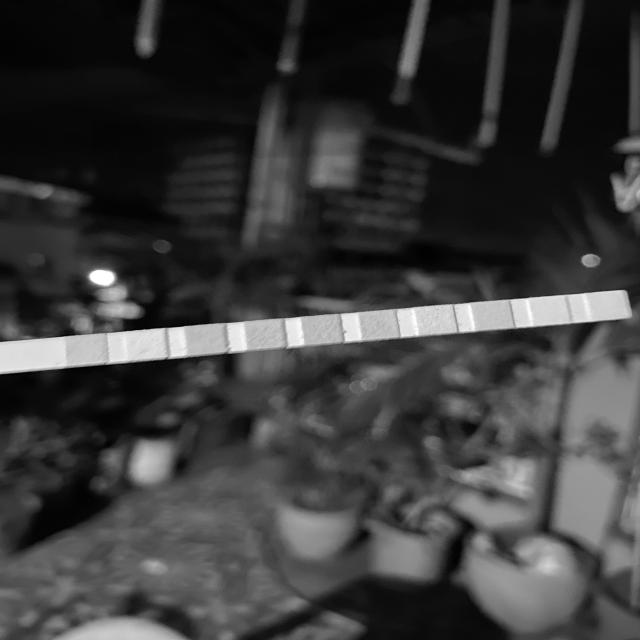Bilirubin: (129, 330, 165, 359)
Blood: (305, 317, 340, 343)
Glucose: (68, 337, 106, 362)
Ketone: (188, 326, 224, 353)
Leukocytes: (590, 293, 623, 319)
Nitrite: (531, 298, 566, 323)
Protein: (419, 307, 454, 333)
SpGravity: (247, 321, 283, 348)
Urobilinogen: (476, 302, 510, 329)
background: (0, 0, 640, 640)
pH: (363, 312, 396, 339)
strip: (0, 290, 632, 375)
